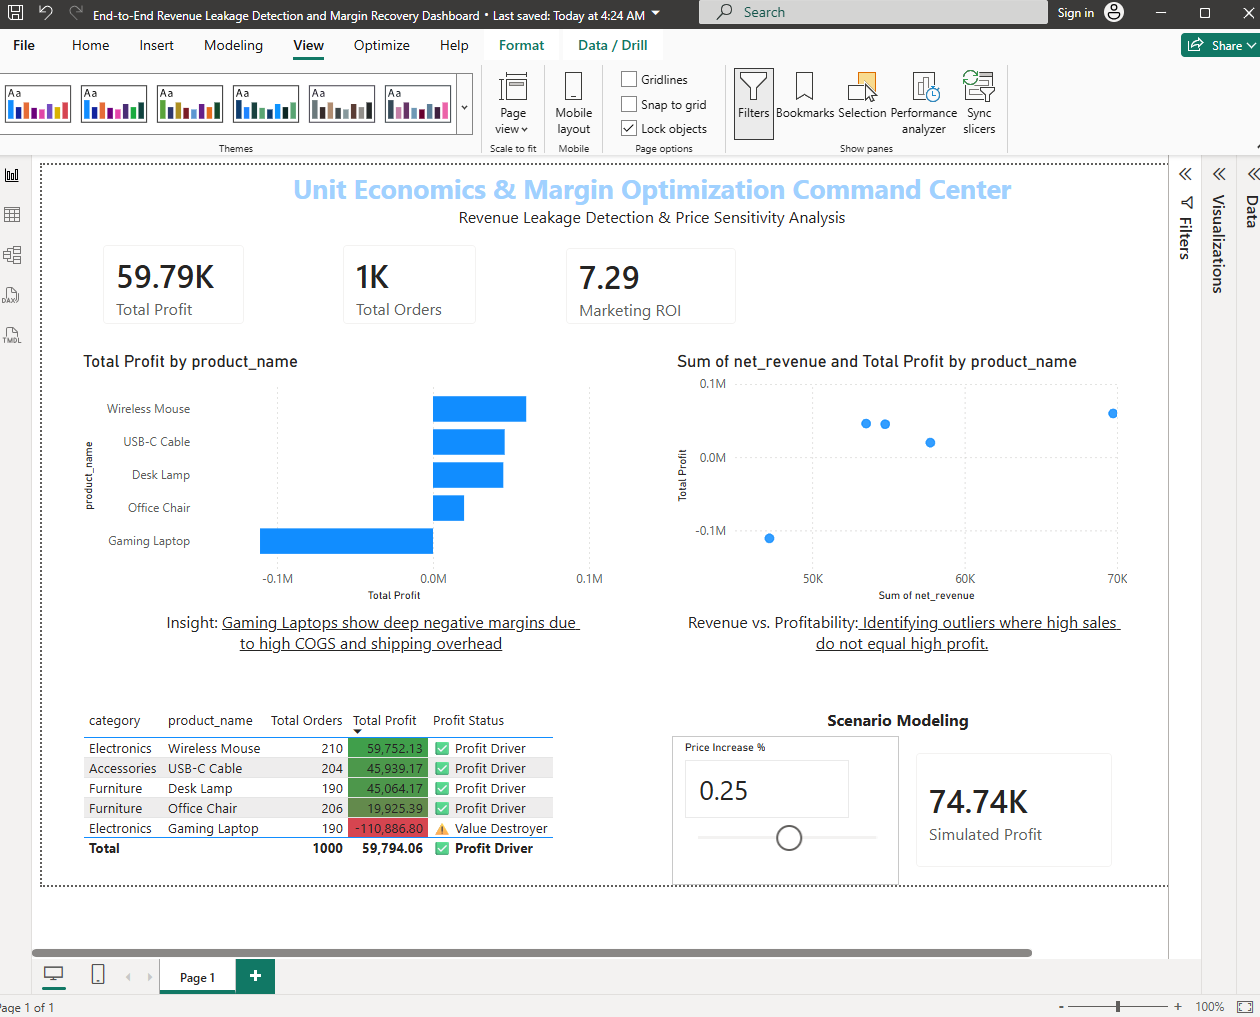

The dashboard page shown, as its layout file describes it:
{"tool":"powerbi","page":{"name":"Page 1","canvas":[1280,720],"ordinal":0},"visuals":[{"type":"clusteredBarChart","fields":{"Category":["Orders.product_name"],"Y":["Orders.Total Profit"]},"box":[36.1,185.9,529.6,254.6],"z":0},{"type":"scatterChart","fields":{"Category":["Orders.product_name"],"X":["Sum(Orders.net_revenue)"],"Y":["Orders.Total Profit"]},"box":[629.9,185.9,459.7,254.6],"z":1000},{"type":"cardVisual","fields":{"Data":["Orders.Total Profit"]},"box":[43.9,63.1,174.6,112.7],"z":2000},{"type":"cardVisual","fields":{"Data":["Orders.Total Orders"]},"box":[283.9,63.1,166.8,112.7],"z":3000},{"type":"cardVisual","fields":{"Data":["Orders.Marketing ROI"]},"box":[507,66.5,203.9,109.3],"z":4000},{"type":"tableEx","fields":{"Values":["Orders.category","Orders.product_name","Orders.Total Orders","Orders.Total Profit","Orders.Profit Status"]},"box":[36.1,539.7,495.8,180.3],"z":5000},{"type":"slicer","fields":{"Values":["Price Increase %.Price Increase %"]},"box":[629.7,571.5,227.6,148.7],"z":6000},{"type":"cardVisual","fields":{"Data":["Marketing_Budget.Simulated Profit"]},"box":[857.2,571.5,230.1,147.4],"z":6001},{"type":"textbox","box":[147.6,0,923.9,80],"z":6002},{"type":"textbox","box":[111.2,440.9,435.7,87.9],"z":6003},{"type":"textbox","box":[629.7,440.9,460.3,103.4],"z":6004},{"type":"textbox","box":[640,539.2,431.8,32.3],"z":6005}]}

Visuals, with their boxes on the page's 1280x720 design canvas (x1, y1, x2, y2). These are canvas units, not pixel positions in the 1260x1017 screenshot, which may show the page scaled, cropped or inside an application window:
clusteredBarChart - Orders.product_name x Orders.Total Profit: bbox=(36, 186, 566, 440)
scatterChart - Orders.product_name x Sum(Orders.net_revenue): bbox=(630, 186, 1090, 440)
cardVisual - Orders.Total Profit: bbox=(44, 63, 218, 176)
cardVisual - Orders.Total Orders: bbox=(284, 63, 451, 176)
cardVisual - Orders.Marketing ROI: bbox=(507, 66, 711, 176)
tableEx - Orders.category x Orders.product_name: bbox=(36, 540, 532, 720)
slicer - Price Increase %.Price Increase %: bbox=(630, 572, 857, 720)
cardVisual - Marketing_Budget.Simulated Profit: bbox=(857, 572, 1087, 719)
textbox: bbox=(148, 0, 1072, 80)
textbox: bbox=(111, 441, 547, 529)
textbox: bbox=(630, 441, 1090, 544)
textbox: bbox=(640, 539, 1072, 572)
